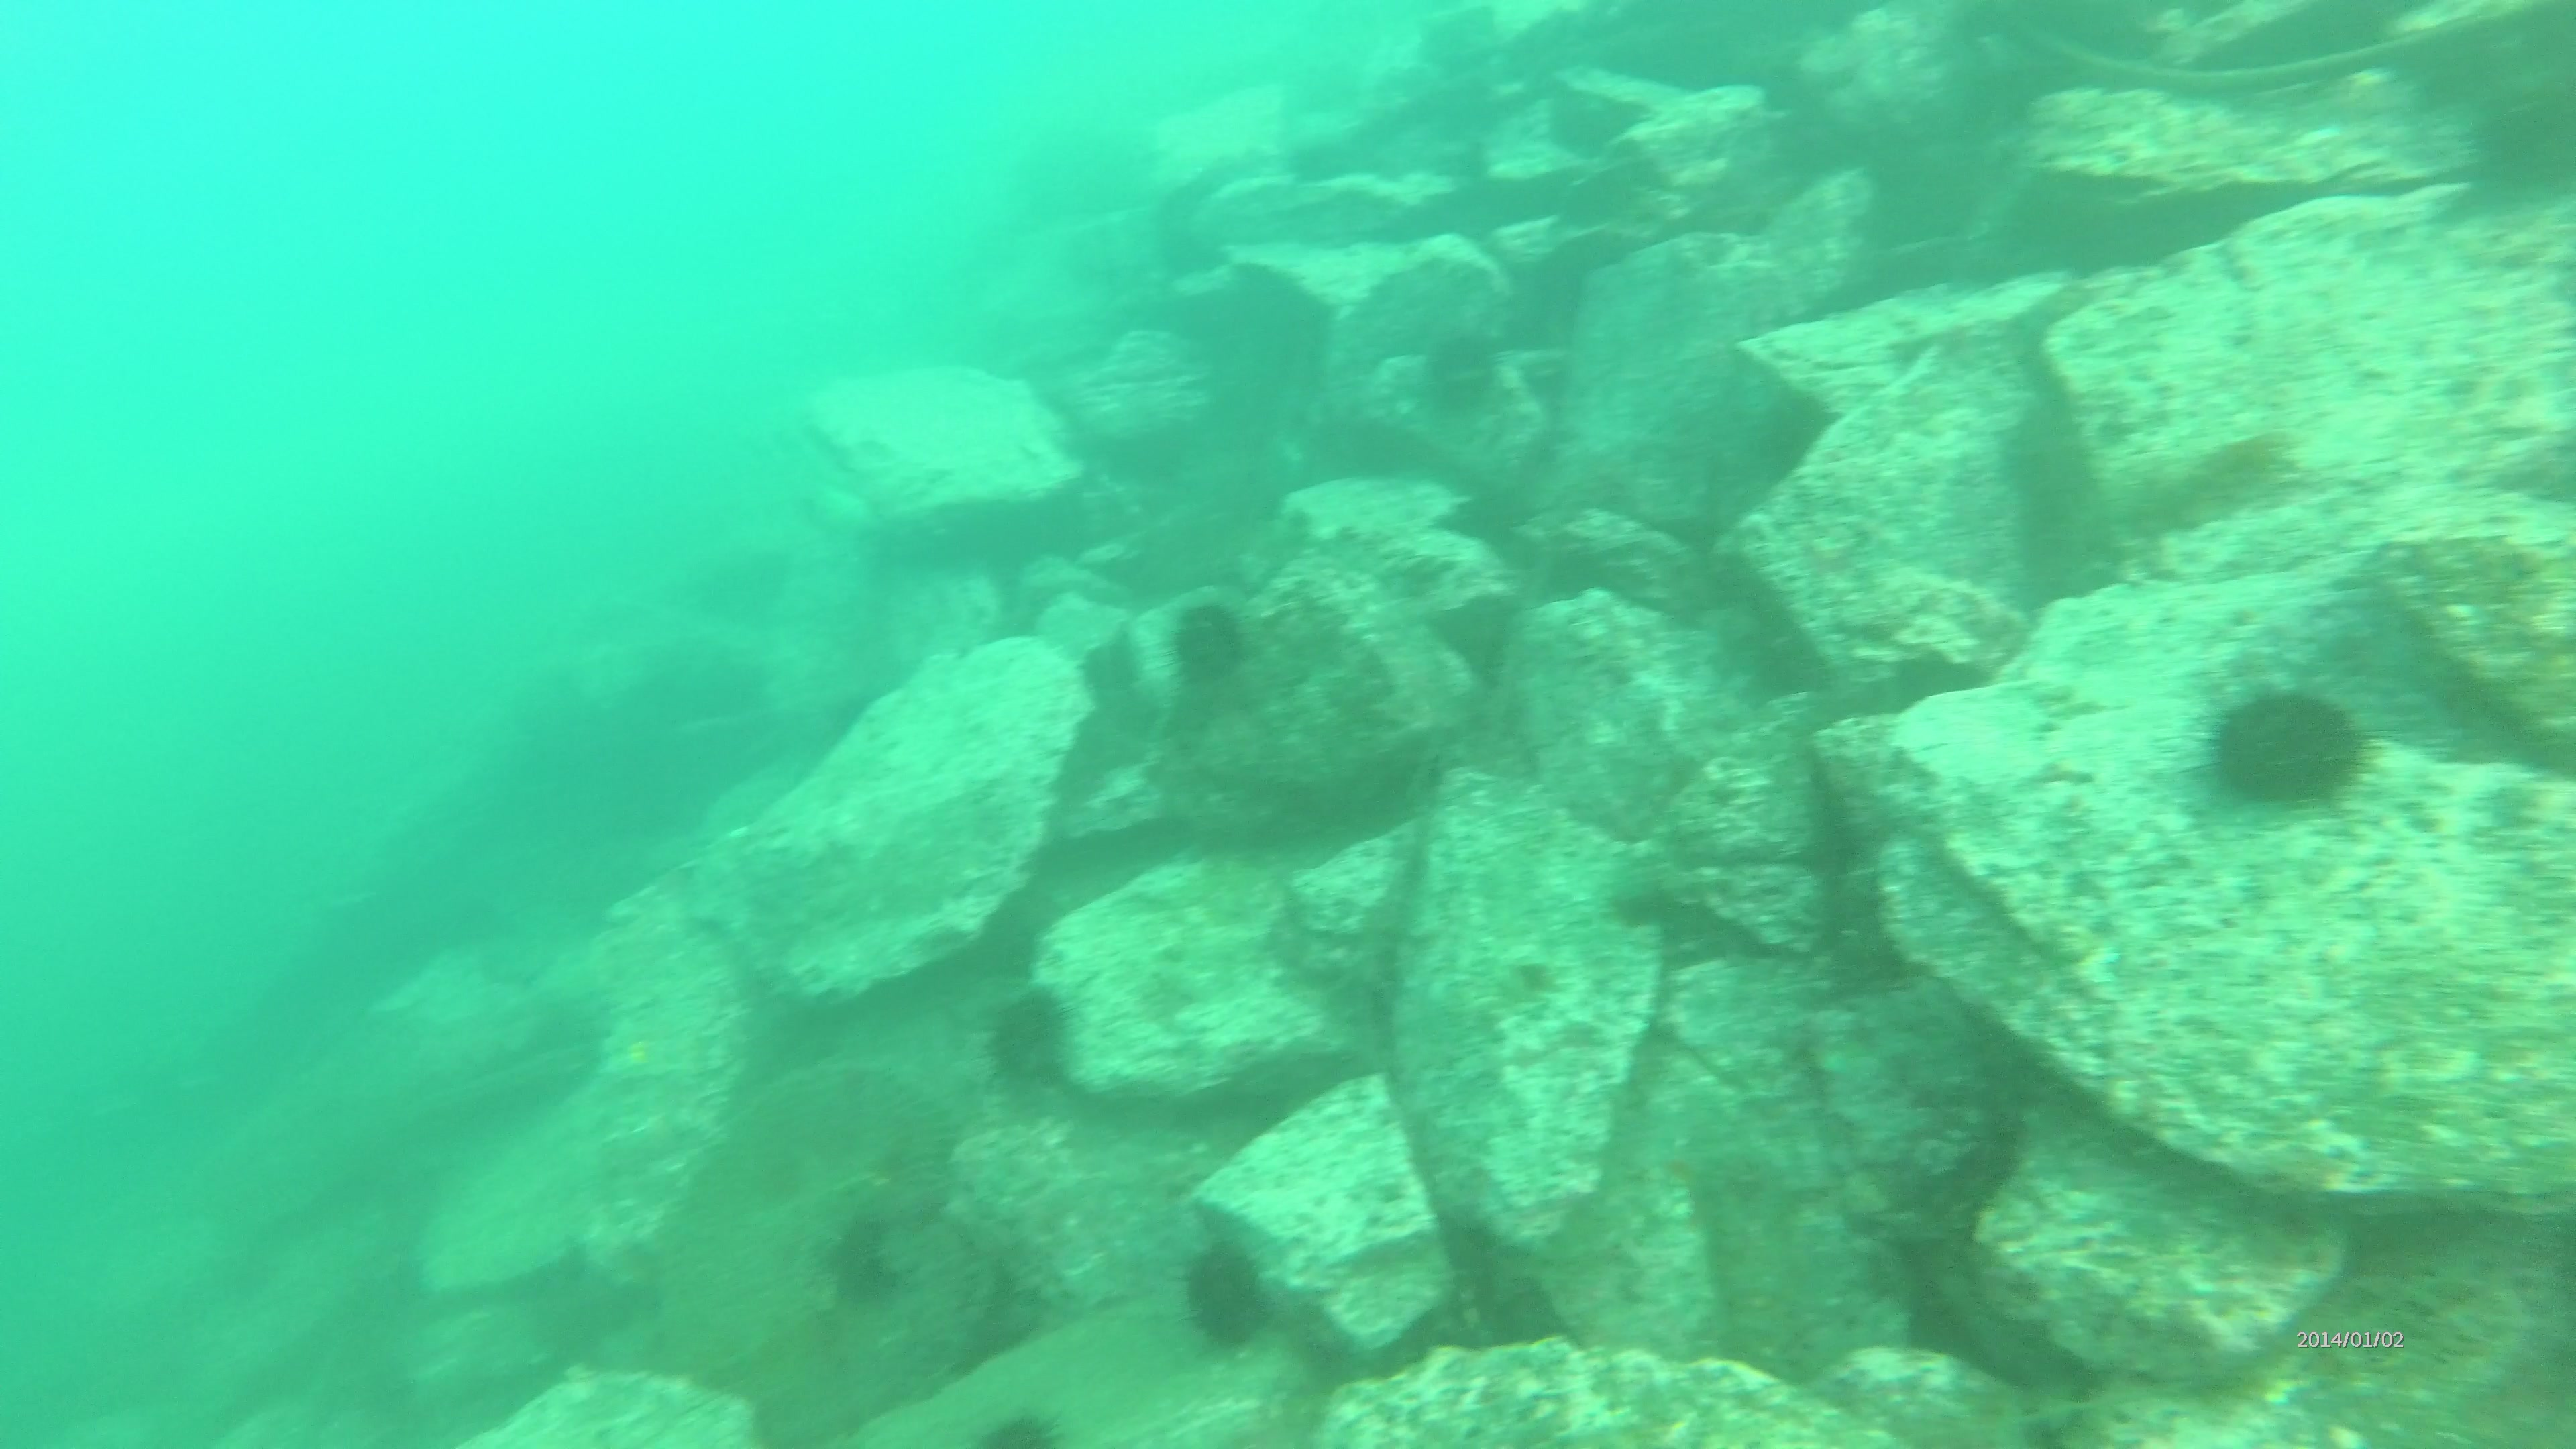echinus: (2189, 672, 2401, 832), (816, 1205, 906, 1323), (1166, 600, 1269, 699), (971, 989, 1070, 1092), (1184, 1242, 1265, 1353), (1430, 329, 1507, 428), (966, 1412, 1076, 1449)
